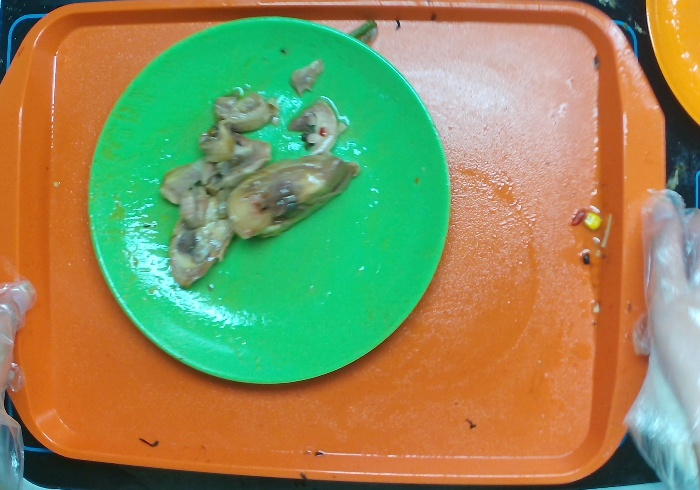HZYJPL-Lv_Se_Yuan_Pan: (76, 9, 458, 392)
